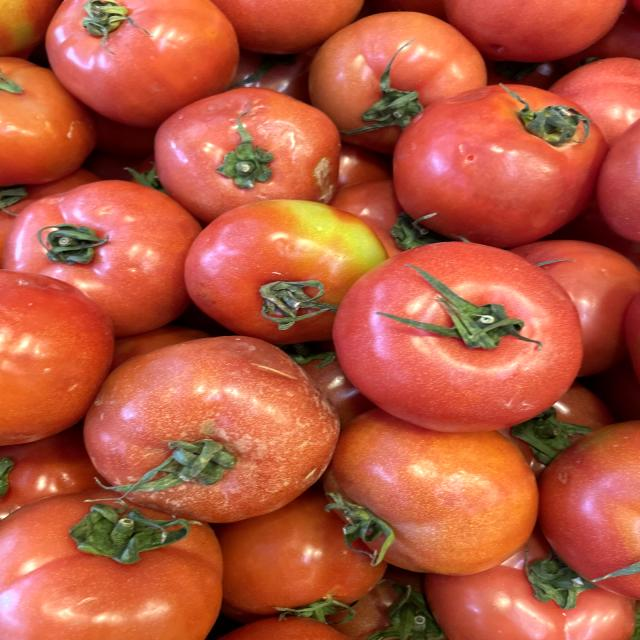tomato: (46, 331, 362, 528), (318, 236, 606, 439), (320, 397, 556, 586), (376, 70, 607, 245), (173, 186, 392, 342), (4, 178, 209, 332), (146, 76, 346, 213), (43, 0, 245, 126)
